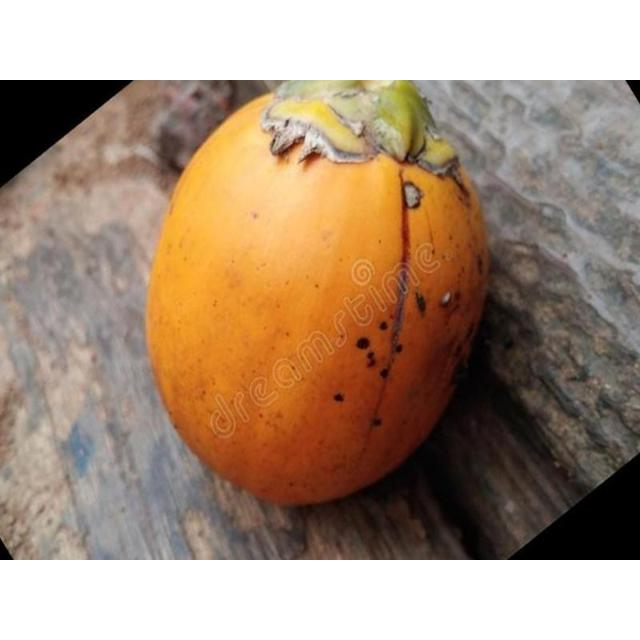good: (144, 80, 491, 509)
